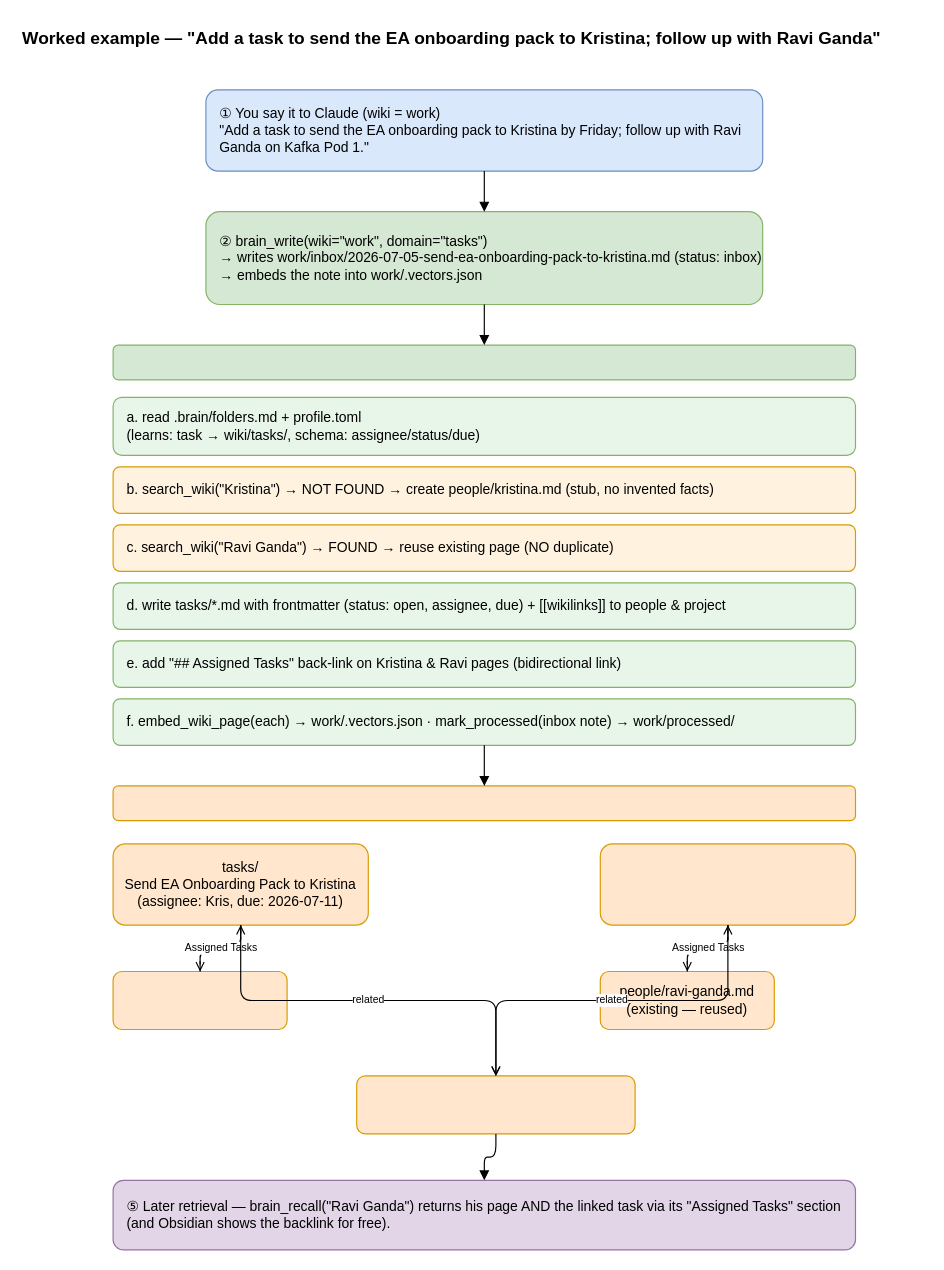
This 944x1270 diagram has some shape labels left out. The box of each missing label's shape, as (x1, y1, x2, y2) in pixels:
areas/ IT 2.0 Modern Technical Architecture: (356, 1075, 635, 1134)
people/kristina.md (new stub): (112, 970, 287, 1030)
tasks/ Follow Up with Ravi Ganda on Kafka Pod 1 (assignee: Ravi, status: open): (599, 843, 855, 925)
③ brain_compile(wiki="work") — the agent loop: (112, 344, 855, 380)
④ Resulting connected graph in work/wiki/: (112, 785, 855, 821)
